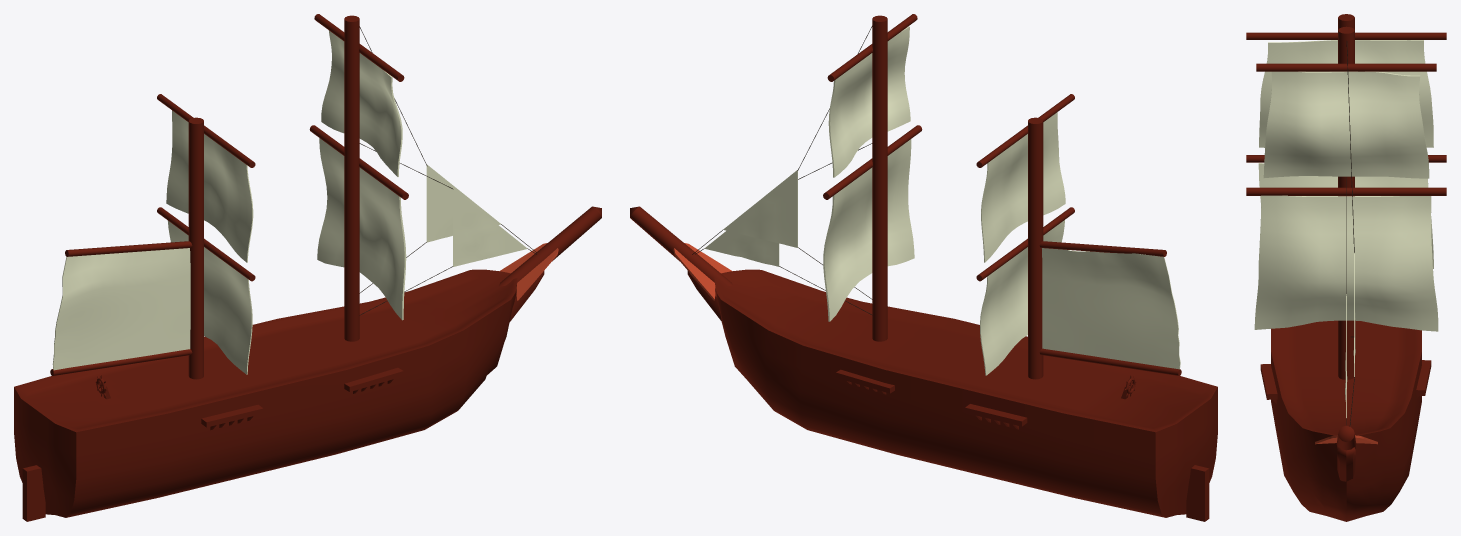
Rendered from Boat_03.fbx.
3 views of the same model, side by side, from view 1: azimuth 30°, elevation 25°; view 2: azimuth 150°, elevation 25°; view 3: azimuth 270°, elevation 25° (orthographic). The views are drawn at different scales.
Parts seen in each view (by area): view 1: Casco, VelaCangreja, VelaFrontal, VelaSecundaria2, VelaFrontal_2, MastilFrontal, VelaSecundaria, MastilSecundario, Foque_2, Foque, PaloBaupres, Timon (+8 smaller); view 2: Casco, VelaCangreja, VelaFrontal, VelaFrontal_2, VelaSecundaria2, MastilFrontal, VelaSecundaria, MastilSecundario, Foque, PaloBaupres, Foque_2, Timon (+8 smaller); view 3: Casco, VelaFrontal, VelaFrontal_2, VelaSecundaria2, VelaSecundaria, MastilFrontal, PaloVelaFrontal, PaloVelaFrontal_2, PaloVelaSecundaria2, Soporte, SujeccionVelas_3, PaloBaupres (+4 smaller).
Boxes of the visible parts, x1,y1,x2,y2 form: Casco: (14, 269, 517, 517); VelaCangreja: (52, 248, 190, 370); VelaFrontal: (317, 138, 406, 320); VelaSecundaria2: (166, 110, 253, 262); VelaFrontal_2: (321, 30, 402, 176); MastilFrontal: (344, 15, 359, 341); VelaSecundaria: (167, 220, 252, 374); MastilSecundario: (188, 117, 203, 379); Foque_2: (453, 189, 527, 266); Foque: (426, 164, 500, 242); PaloBaupres: (499, 206, 601, 286); Timon: (22, 465, 45, 521); Casco: (714, 269, 1217, 517); VelaCangreja: (1042, 248, 1180, 369); VelaFrontal: (823, 139, 914, 321); VelaFrontal_2: (828, 26, 910, 177); VelaSecundaria2: (981, 112, 1065, 262); MastilFrontal: (872, 15, 887, 341); VelaSecundaria: (980, 220, 1064, 375); MastilSecundario: (1028, 117, 1043, 379); Foque: (723, 170, 797, 247); PaloBaupres: (630, 206, 733, 292); Foque_2: (704, 230, 779, 266); Timon: (1186, 465, 1209, 521); Casco: (1271, 320, 1421, 521); VelaFrontal: (1254, 195, 1438, 331); VelaFrontal_2: (1263, 71, 1429, 178); VelaSecundaria2: (1259, 40, 1433, 147); VelaSecundaria: (1258, 163, 1433, 268); MastilFrontal: (1338, 26, 1354, 379); PaloVelaFrontal: (1246, 187, 1446, 195); PaloVelaFrontal_2: (1256, 63, 1436, 71); PaloVelaSecundaria2: (1246, 32, 1446, 39); Soporte: (1337, 447, 1355, 481); SujeccionVelas_3: (1260, 364, 1277, 399); PaloBaupres: (1336, 425, 1356, 450).
Bounding box in the file's own units: 1295 × 904 × 360.
